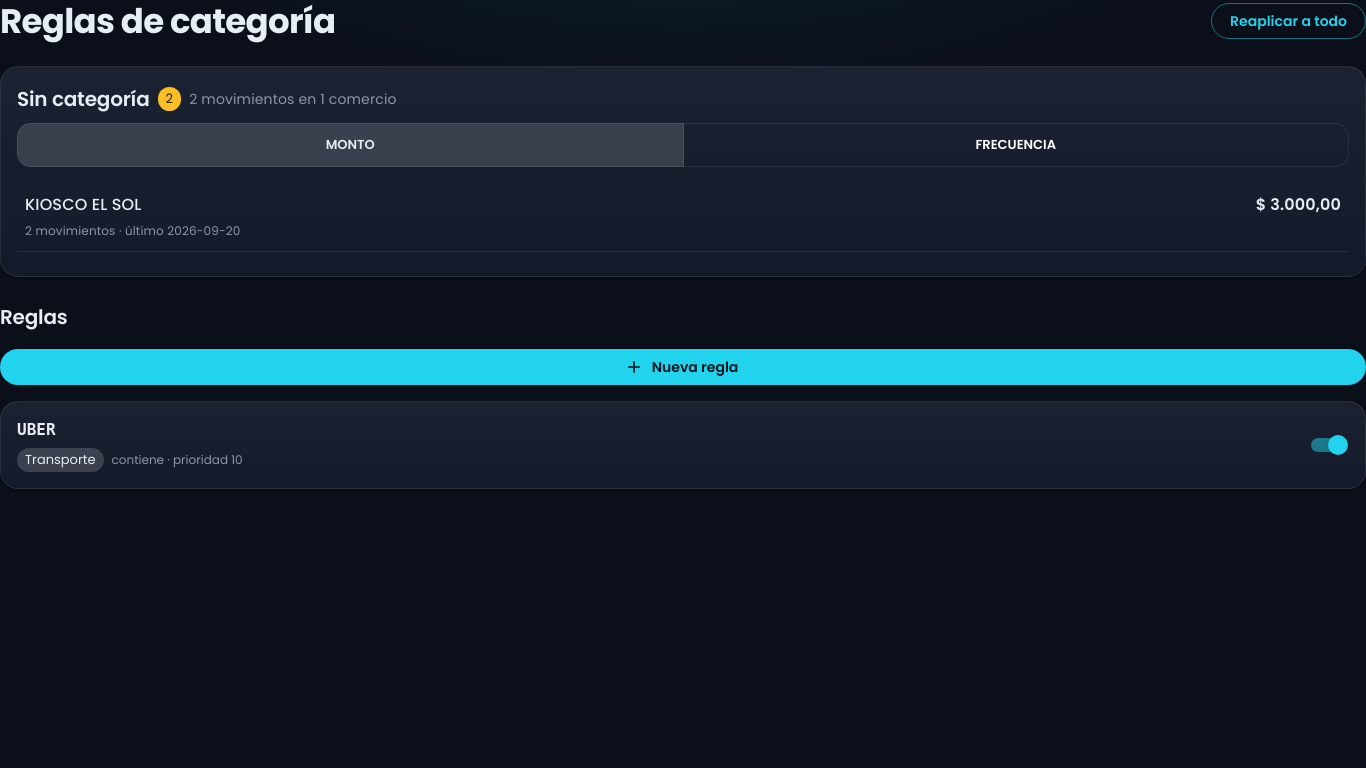
Test: RulesPage en mobile › la bandeja es una lista que abre una hoja, sin tabla
Click the button "KIOSCO EL SOL $ 3.000,00 2 movimientos · último 2026-09-20" at (83,204), box x1=17 y1=183 x2=1349 y2=251
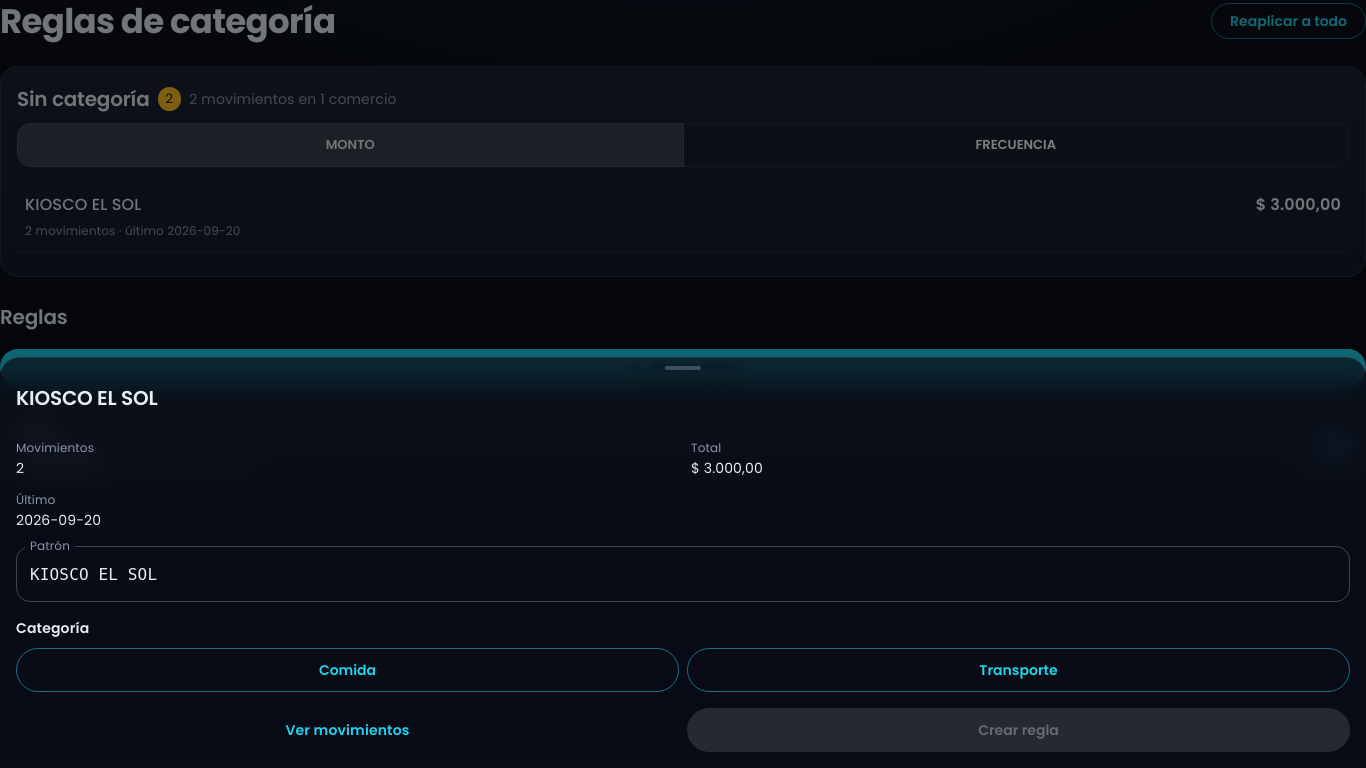
expect the dialog "KIOSCO EL SOL" is shown: met, box x1=0 y1=357 x2=1365 y2=767
